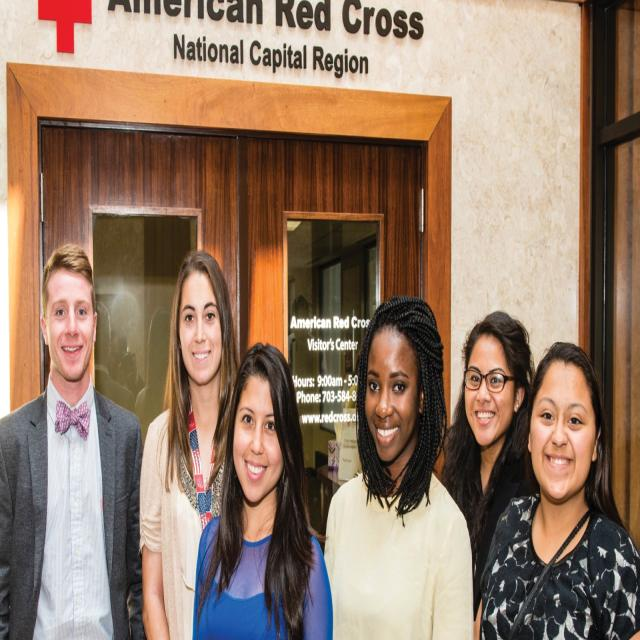body: (0, 240, 144, 640), (326, 292, 475, 639), (472, 340, 640, 639), (192, 341, 334, 640), (138, 249, 244, 640), (442, 310, 539, 588), (94, 282, 172, 399), (289, 294, 357, 414)
